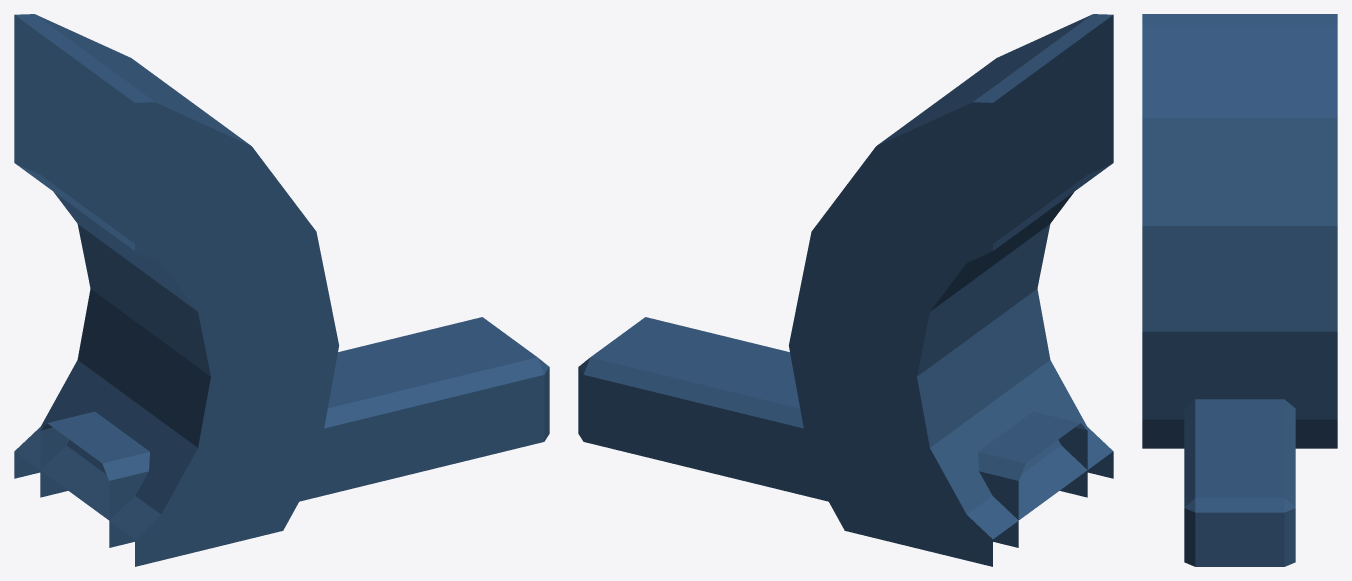
File: cell_55.obj
The picture shows the model from 3 angles, left to right: view 1: azimuth 30°, elevation 25°; view 2: azimuth 150°, elevation 25°; view 3: azimuth 270°, elevation 25°; orthographic projection. The views are drawn at different scales.
Bounding box in the file's own units: 0.1875 × 0.1859 × 0.0875.
